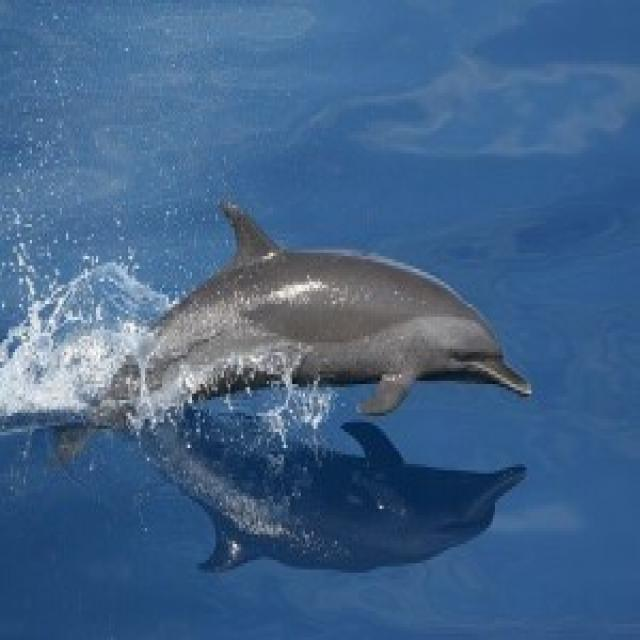Dolphin: (36, 189, 540, 478)
